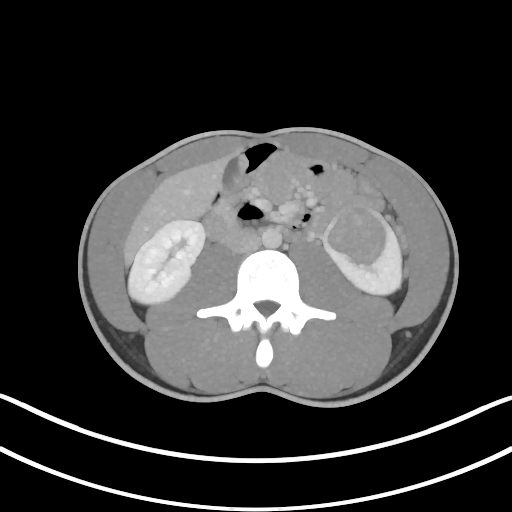Lesion: (323, 208, 392, 269)
